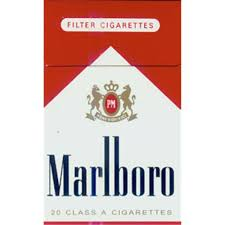marlboro: (45, 1, 180, 224)
